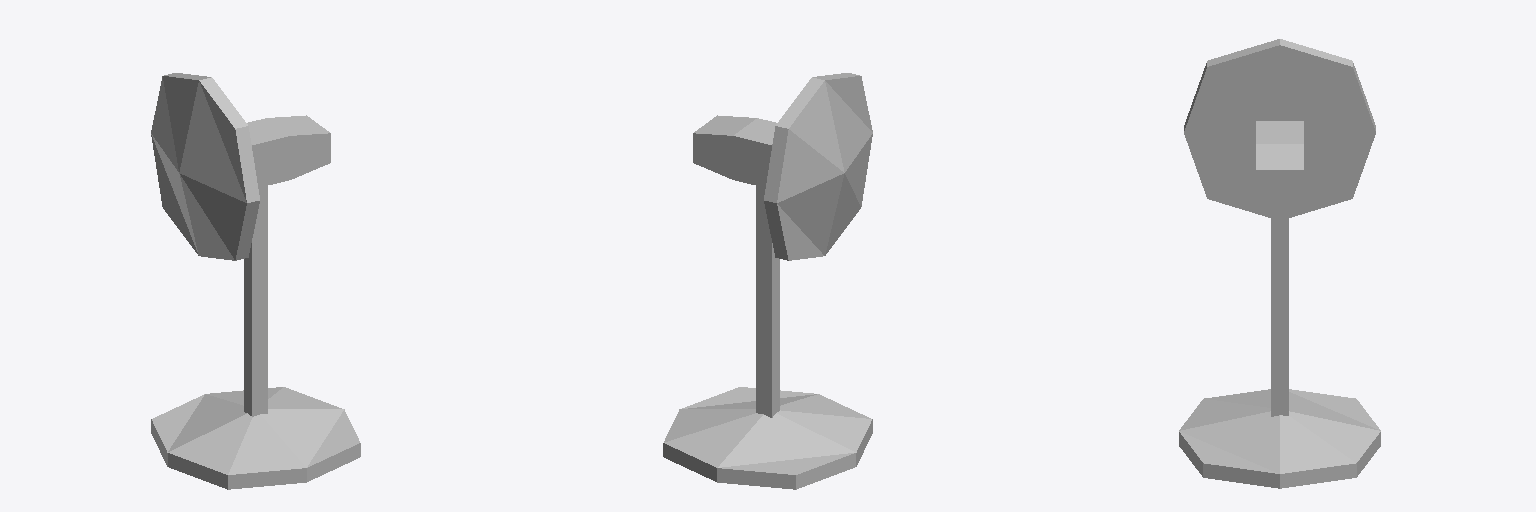
The model's file is Export_fan.obj.
3 views of the same model, side by side, from view 1: azimuth 30°, elevation 25°; view 2: azimuth 150°, elevation 25°; view 3: azimuth 270°, elevation 25° (orthographic).
Parts seen in each view (by area): view 1: pCube4; view 2: pCube4; view 3: pCube4.
Part boxes in pixels (x1,y1,x2,y2): pCube4: (151, 73, 360, 489); pCube4: (663, 73, 872, 489); pCube4: (1179, 39, 1380, 488).
Size of the model in its own units: 3.35 by 6.85 by 3.32.